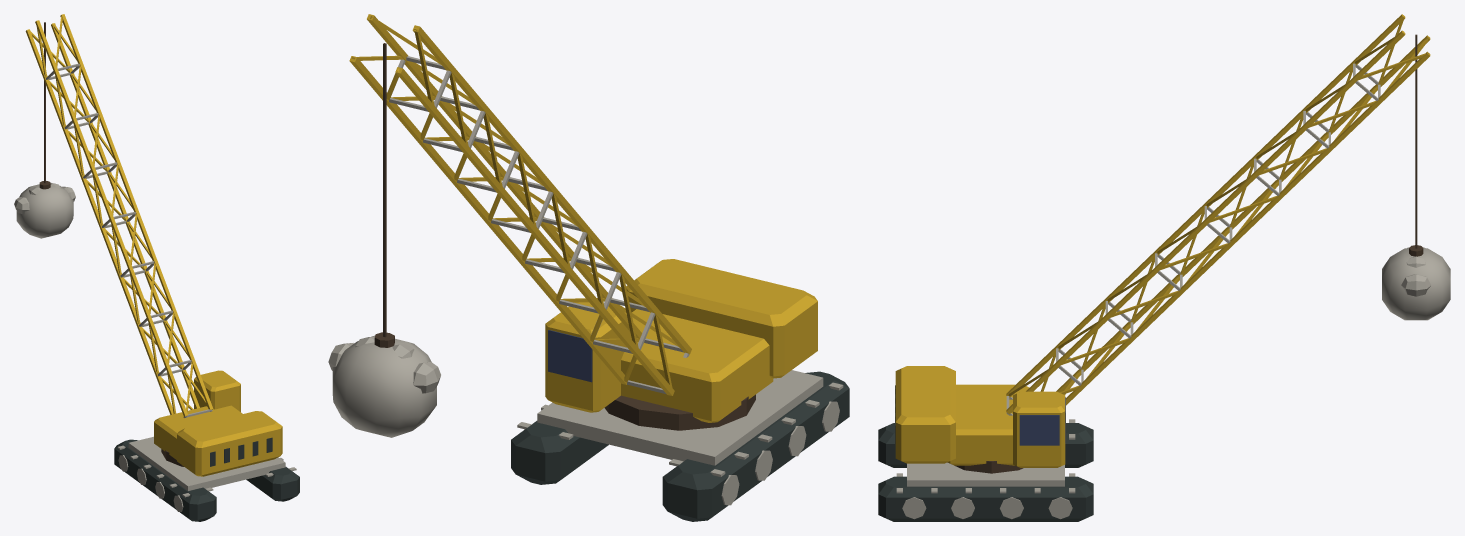
File: R03_Demolition_Crane.fbx
3 views of the same model, side by side, from view 1: azimuth 30°, elevation 25°; view 2: azimuth 150°, elevation 25°; view 3: azimuth 270°, elevation 25° (orthographic). The views are drawn at different scales.
Visible parts, largest first — view 1: Body, Boom, Ball, Ball_Paw; view 2: Body, Boom, Ball, Ball_Paw, Cable; view 3: Body, Boom, Ball, Ball_Paw.
Part boxes in pixels (x1,y1,x2,y2): Body: (114,370,299,521); Boom: (25,14,213,417); Ball: (16,181,73,238); Ball_Paw: (14,183,75,214); Body: (511,259,849,521); Boom: (349,14,691,395); Ball: (332,332,436,437); Ball_Paw: (328,336,440,393); Cable: (383,43,386,337); Body: (878,366,1093,521); Boom: (1006,14,1430,415); Ball: (1382,245,1450,320); Ball_Paw: (1401,247,1431,296).
Size of the model in its own units: 6 by 18 by 20.
